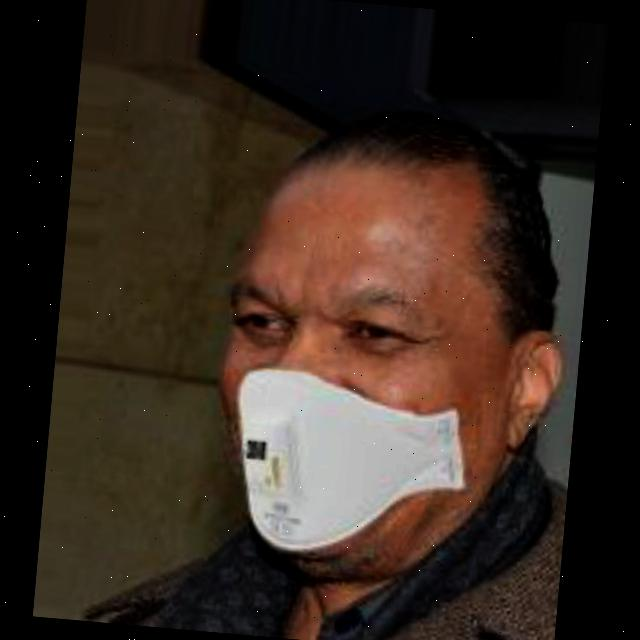suspicion: (195, 118, 580, 572)
